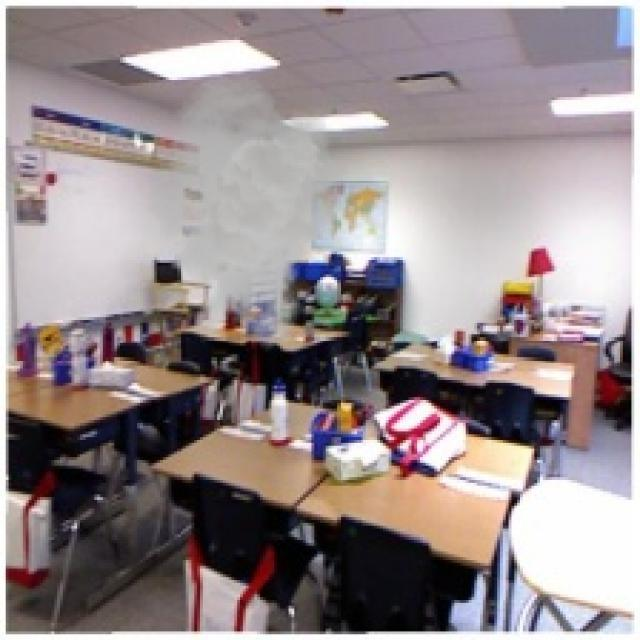Smoke: (134, 75, 349, 352)
